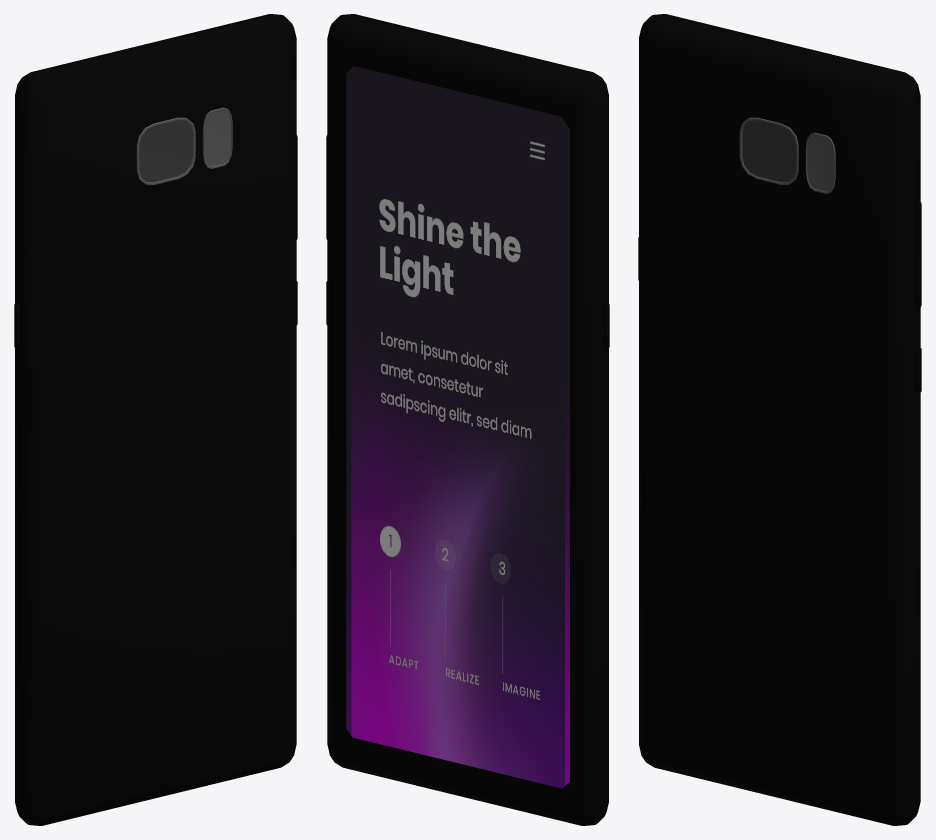
File: celular.gltf
The picture shows the model from 3 angles, left to right: view 1: azimuth 30°, elevation 25°; view 2: azimuth 150°, elevation 25°; view 3: azimuth 330°, elevation 25°; orthographic projection.
Visible parts, largest first — view 1: Cube, Cube.001, Cube.002, buttons; view 2: Cube.003, Cube, buttons; view 3: Cube, Cube.001, Cube.002, buttons.
Part boxes in pixels (x1,y1,x2,y2): Cube: (15, 14, 296, 825); Cube.001: (136, 117, 195, 184); Cube.002: (202, 107, 232, 168); buttons: (14, 135, 297, 349); Cube.003: (346, 66, 569, 788); Cube: (327, 14, 608, 825); buttons: (326, 135, 609, 349); Cube: (639, 14, 920, 825); Cube.001: (739, 117, 798, 184); Cube.002: (805, 132, 835, 193); buttons: (638, 200, 921, 393).
Bounding box in the file's own units: 2.06 × 5.25 × 0.2674.
5 materials, 3 textured.
